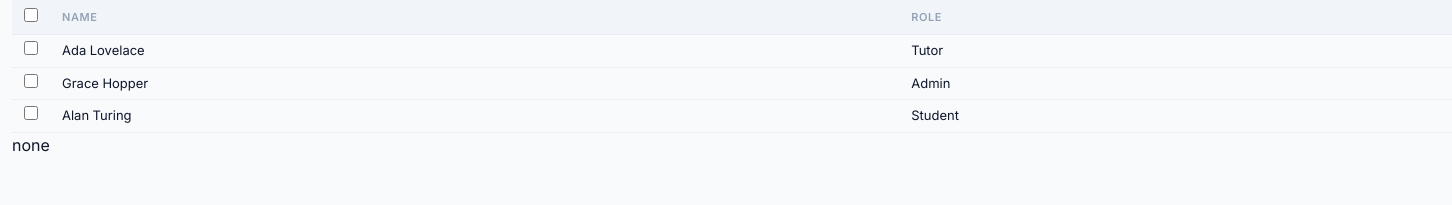
DataTable — row selection › selects and clears a single row
Click the checkbox named "Select row p2".
click(31, 80)  # box [24, 74, 38, 88]
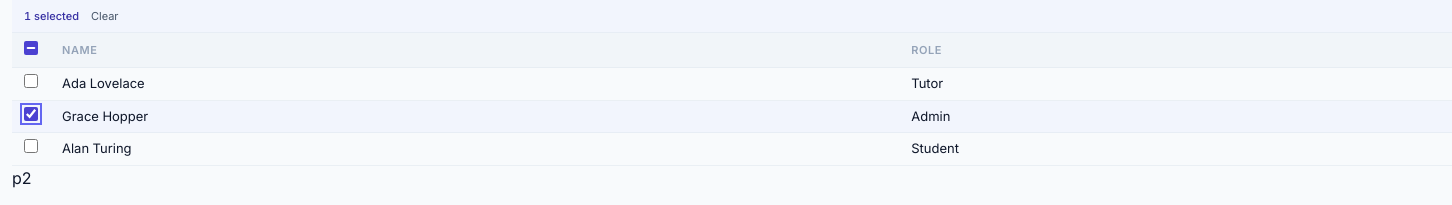
Expected: the text with test id "selected" reads "p2", [12, 168, 32, 188]
Click the checkbox named "Select row p2".
click(31, 114)  # box [24, 106, 38, 120]
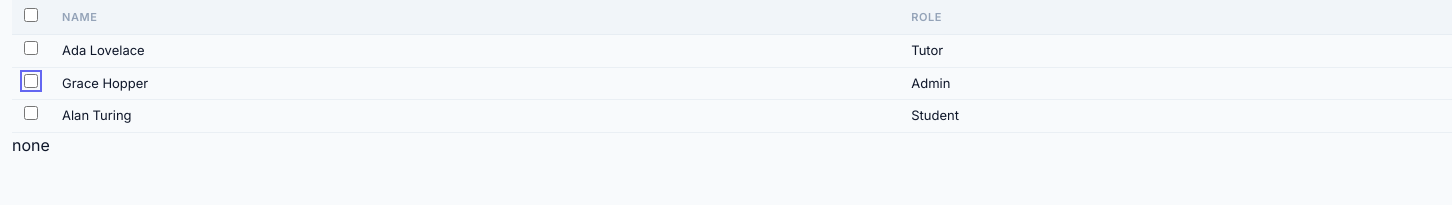
Expected: the text with test id "selected" reads "none", [12, 134, 50, 154]
